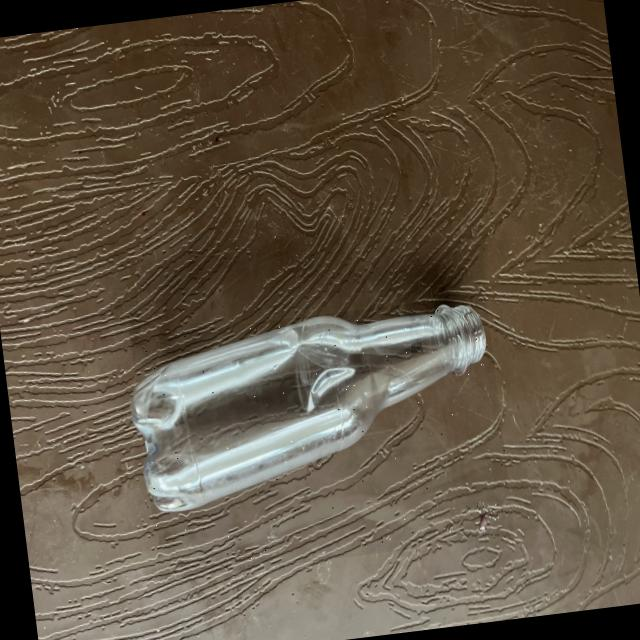PET_ClearBottle: (128, 294, 513, 580)
